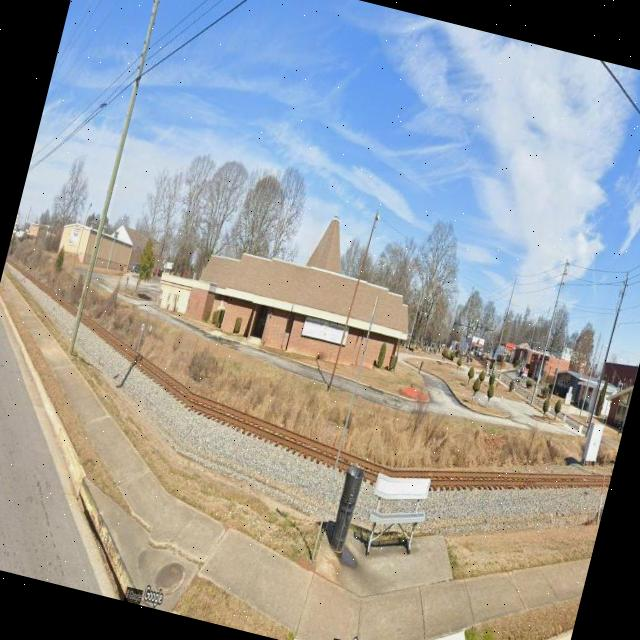seating: (356, 464, 434, 564)
trash_can: (328, 462, 366, 550)
